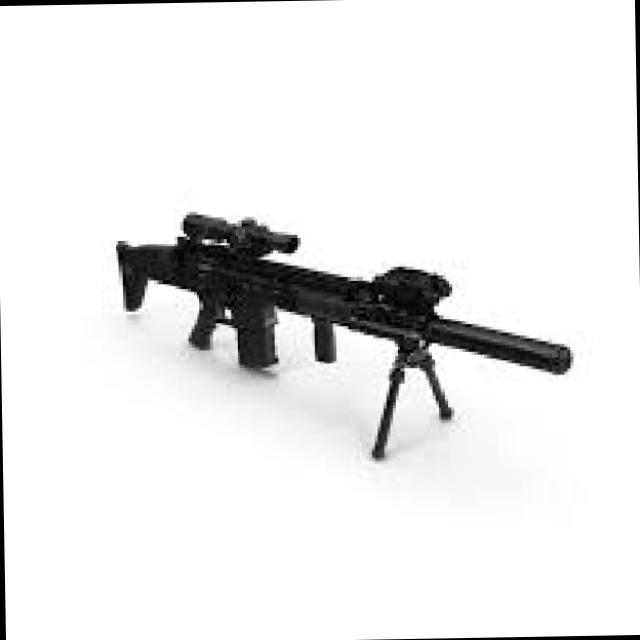Gun: (87, 200, 582, 455)
